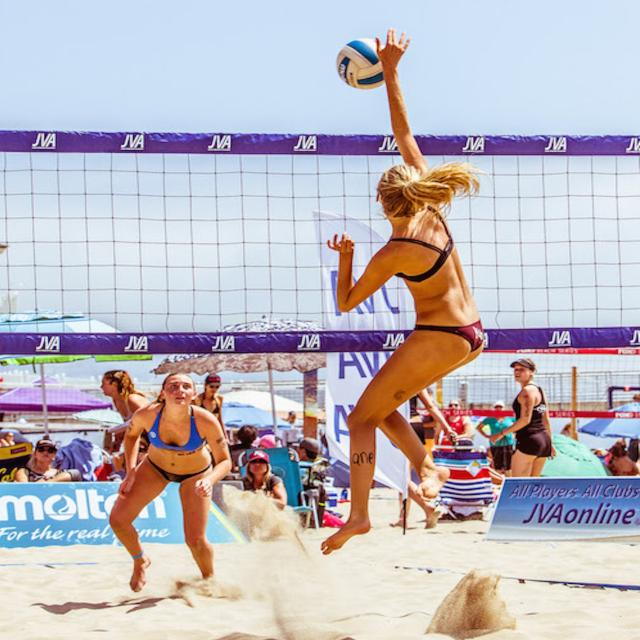body: (318, 27, 485, 556), (103, 370, 241, 601), (490, 358, 557, 477), (389, 457, 442, 530), (474, 400, 516, 478), (15, 438, 83, 482), (193, 372, 231, 447), (99, 370, 150, 422), (243, 450, 287, 510), (606, 444, 640, 514), (434, 398, 475, 452), (228, 424, 259, 473), (624, 438, 640, 513), (558, 421, 580, 471), (415, 388, 440, 422), (290, 437, 320, 462), (281, 410, 299, 448), (604, 440, 626, 466), (258, 433, 276, 450), (0, 431, 16, 448), (316, 409, 328, 425), (632, 392, 640, 403)
